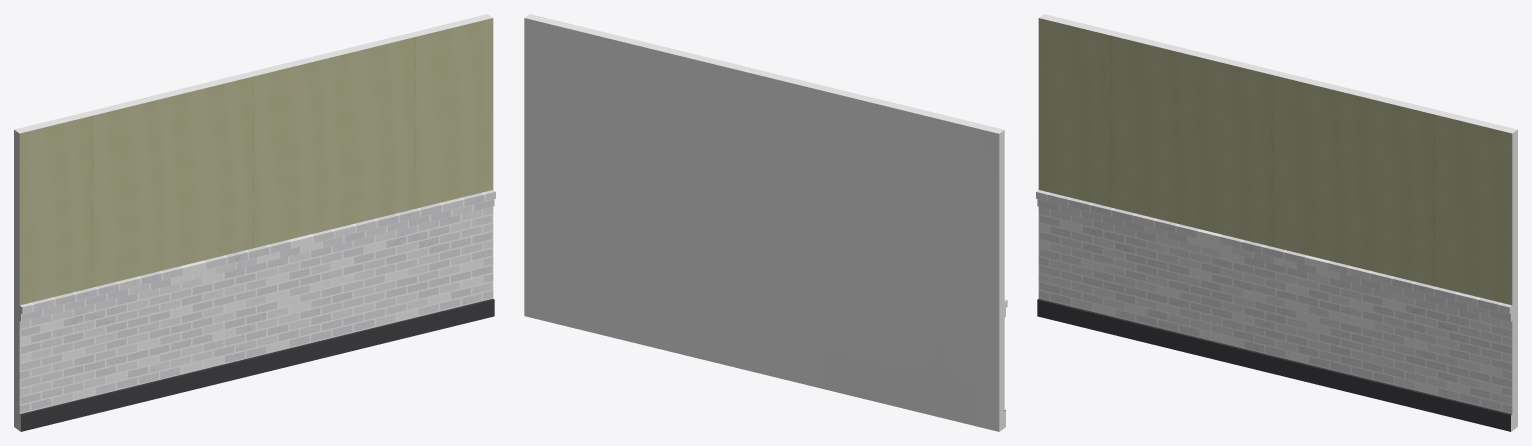
The model's file is SM_Buildings_Wall_5x3_01.fbx.
3 views of the same model, side by side, from view 1: azimuth 30°, elevation 25°; view 2: azimuth 150°, elevation 25°; view 3: azimuth 330°, elevation 25° (orthographic).
Visible parts, largest first — view 1: SM_Buildings_Wall_5x3_01; view 2: SM_Buildings_Wall_5x3_01; view 3: SM_Buildings_Wall_5x3_01.
Boxes of the visible parts, left/top/right/bottom form: SM_Buildings_Wall_5x3_01: left=14, top=14, right=495, bottom=431; SM_Buildings_Wall_5x3_01: left=524, top=14, right=1007, bottom=431; SM_Buildings_Wall_5x3_01: left=1036, top=14, right=1517, bottom=431.
Size of the model in its own units: 500 by 300 by 15.
Materials: 1 (1 with a texture image).
